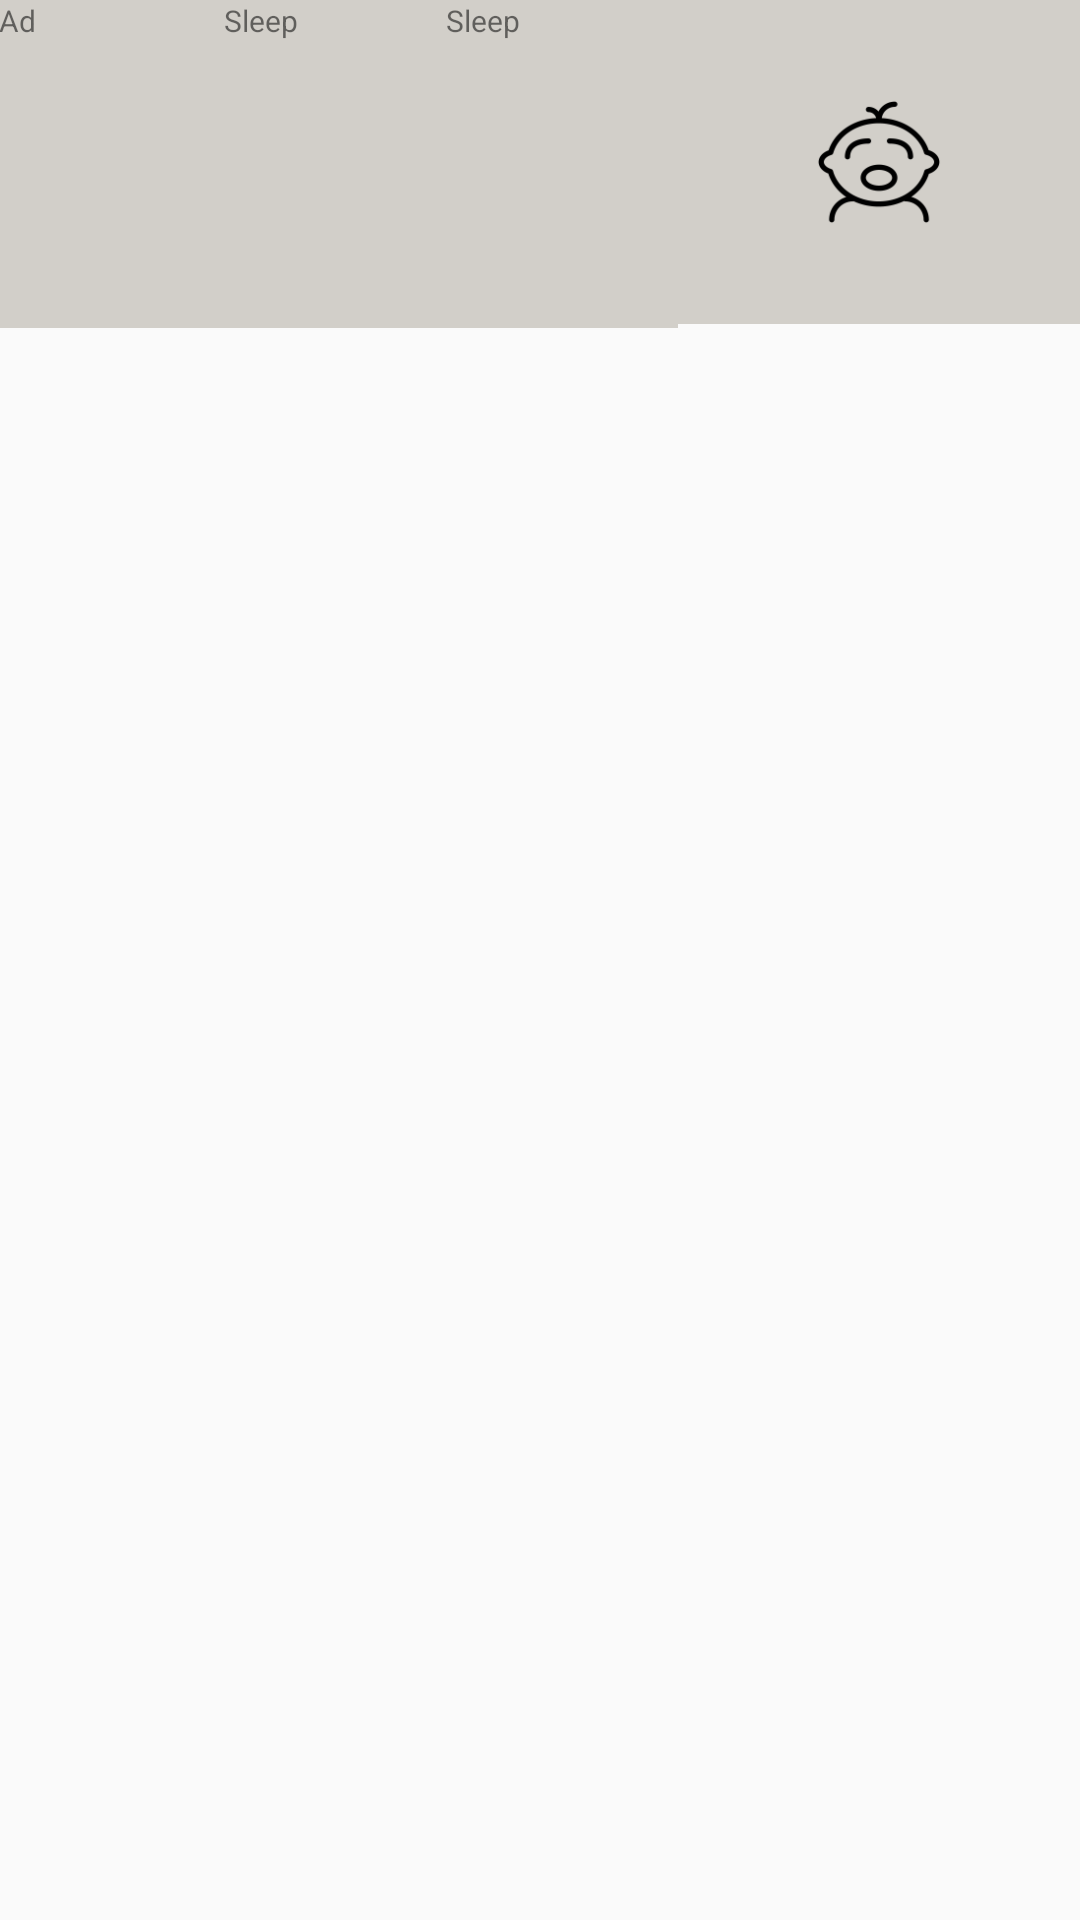

Screen size 1080px×1920px. Icon name, then its center in pixels as (x=x, y=y):
babybtn: (x=879, y=162)
